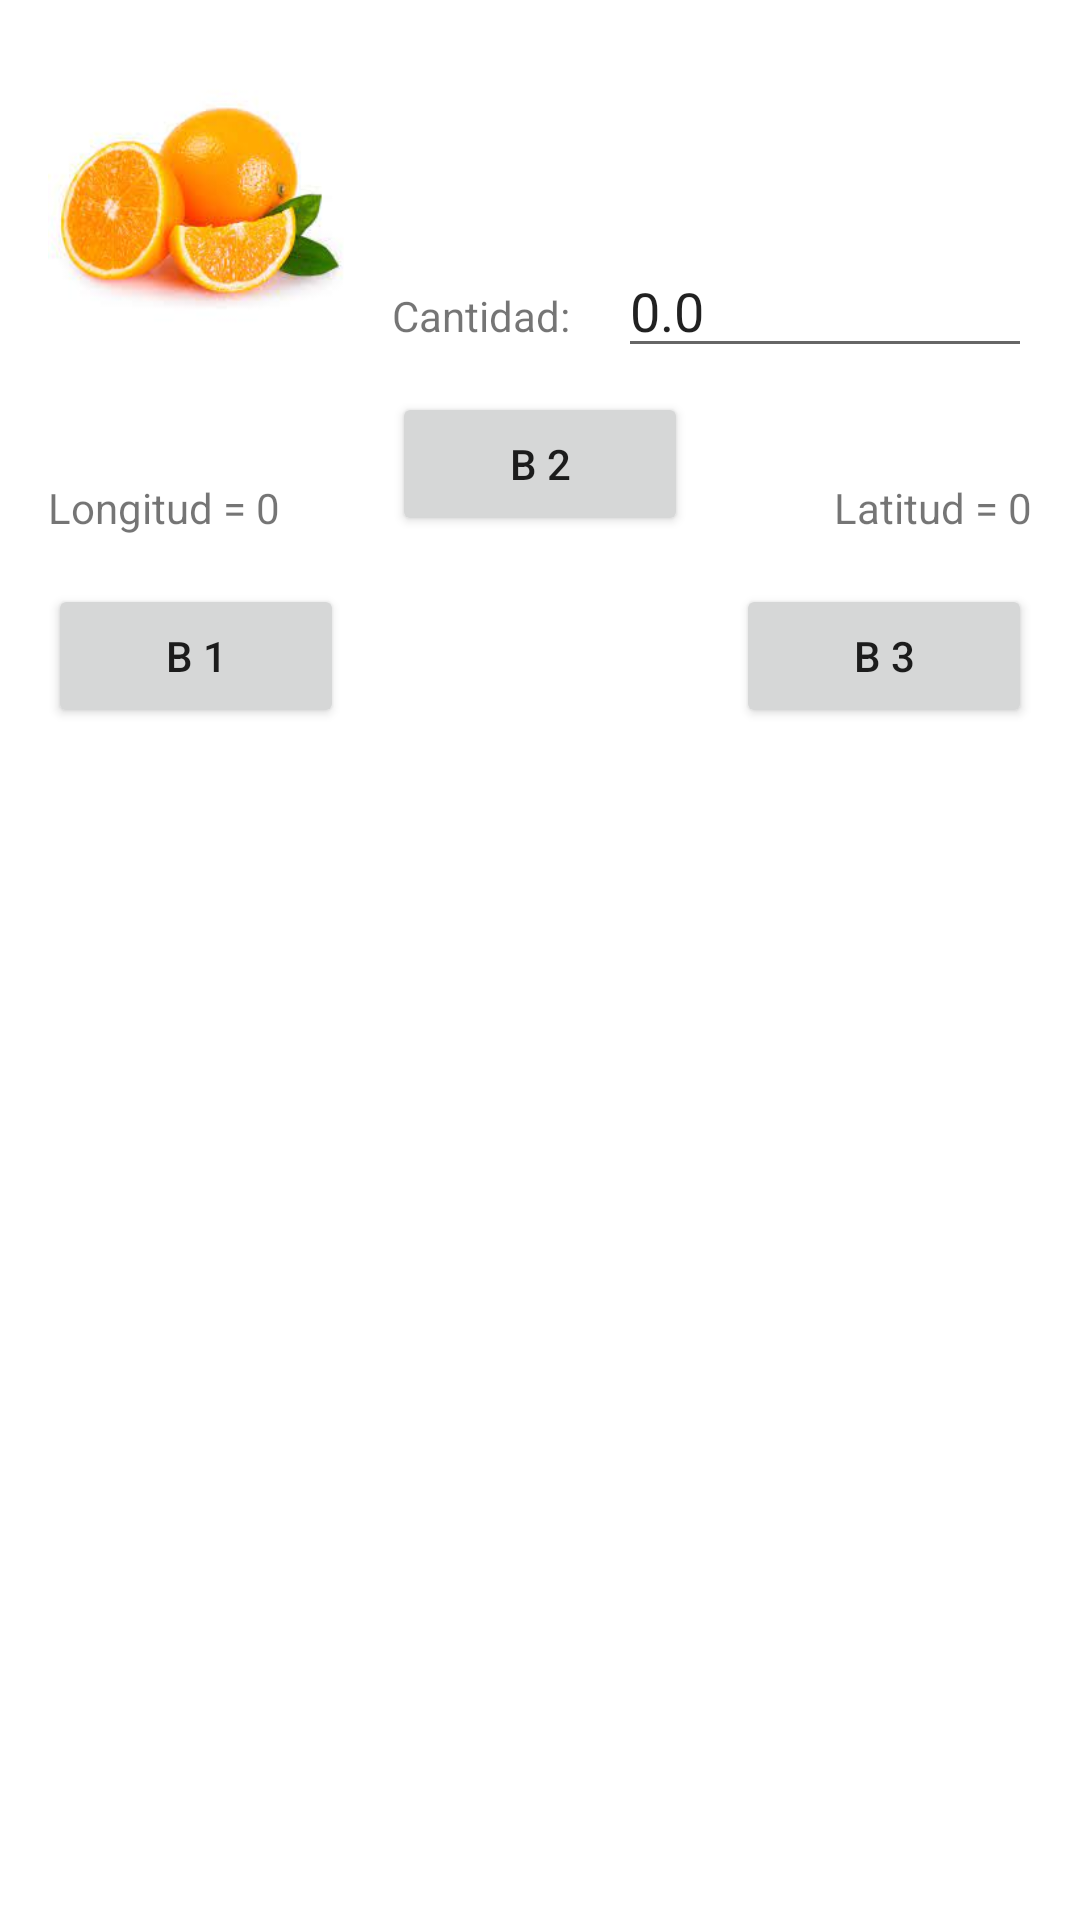

Where icons sit on this 1080w x 1920h app screen, as (x1, y1, x2, y2):
naranja: (59, 107, 341, 302)
